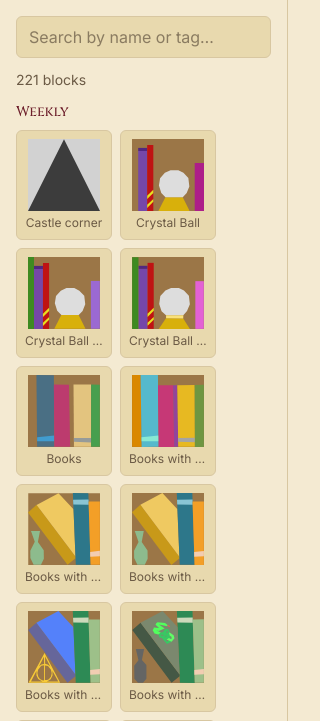
Test: BlockCatalog › shows a zero count and no category headers for an unmatched search
This screenshot has width=320, height=721.
Type "zzz-nonexistent-zzz" into the search field at (144, 37), box [16,16,271,58]
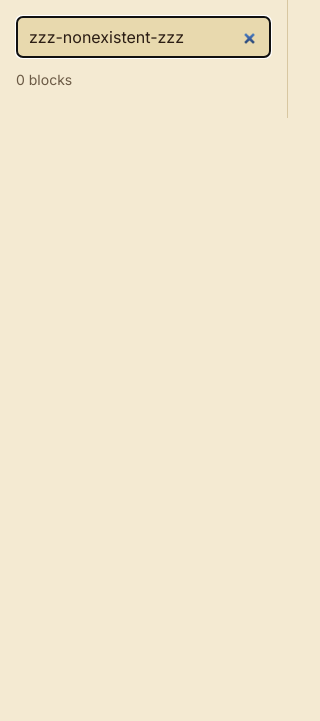
Expected: the text "0 blocks" is shown, [16,71,72,88]
